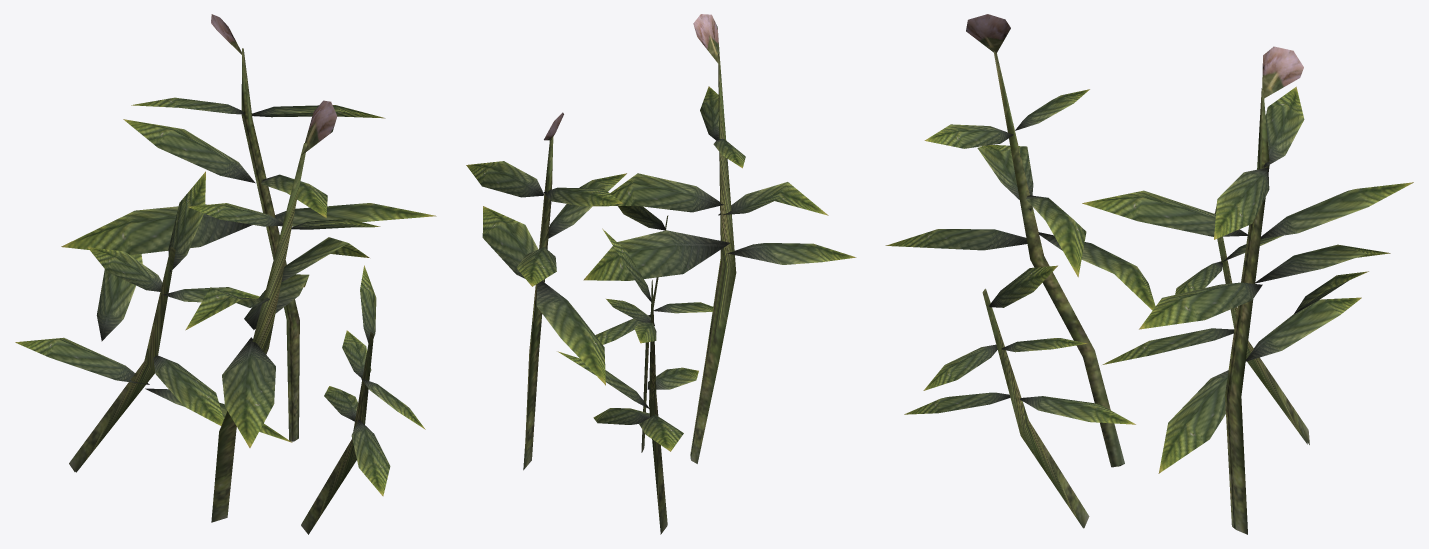
The model's file is SM_Plains_Fern03.FBX.
3 renders of one model, left to right at view 1: azimuth 30°, elevation 25°; view 2: azimuth 150°, elevation 25°; view 3: azimuth 270°, elevation 25°, orthographic. The views are drawn at different scales.
Visible parts, largest first — view 1: SM_Plains_Fern03; view 2: SM_Plains_Fern03; view 3: SM_Plains_Fern03.
Part boxes in pixels (x1,y1,x2,y2): SM_Plains_Fern03: [15, 14, 436, 534]; SM_Plains_Fern03: [466, 14, 856, 534]; SM_Plains_Fern03: [885, 14, 1413, 534].
Bounding box in the file's own units: 50.33 × 70.23 × 66.95.
Materials: 1 (1 with a texture image).
